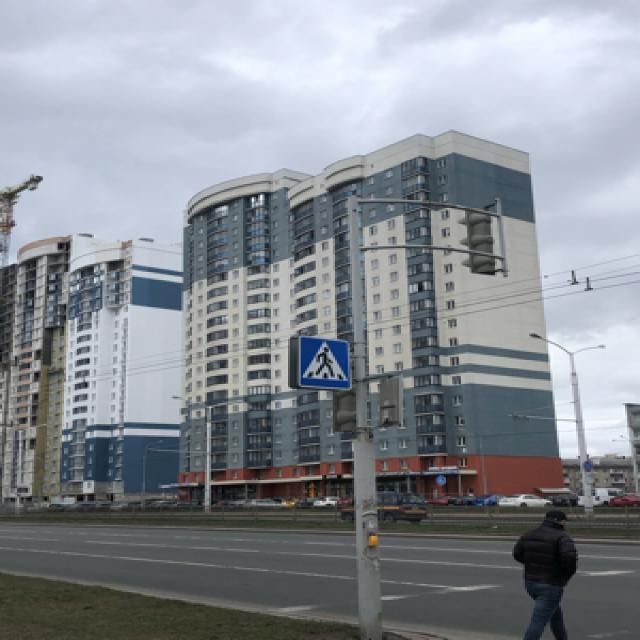crosswalk: (292, 333, 350, 390)
